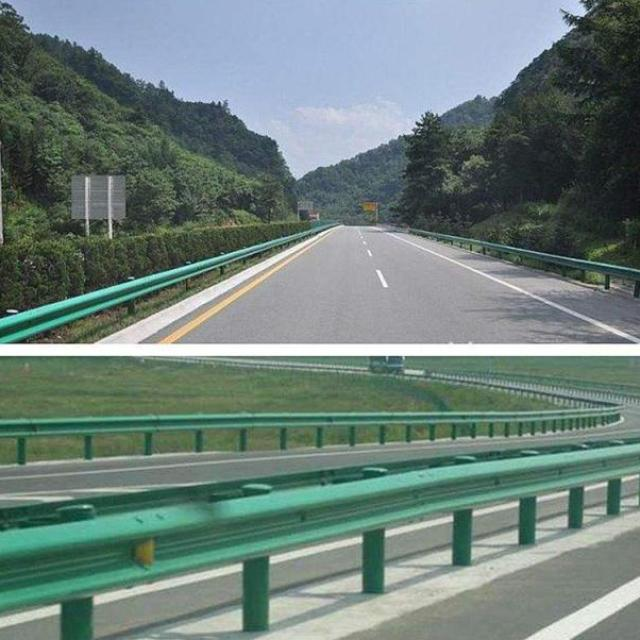Guard rail: (3, 441, 640, 615), (0, 223, 338, 342), (20, 411, 576, 441), (410, 229, 640, 281)
